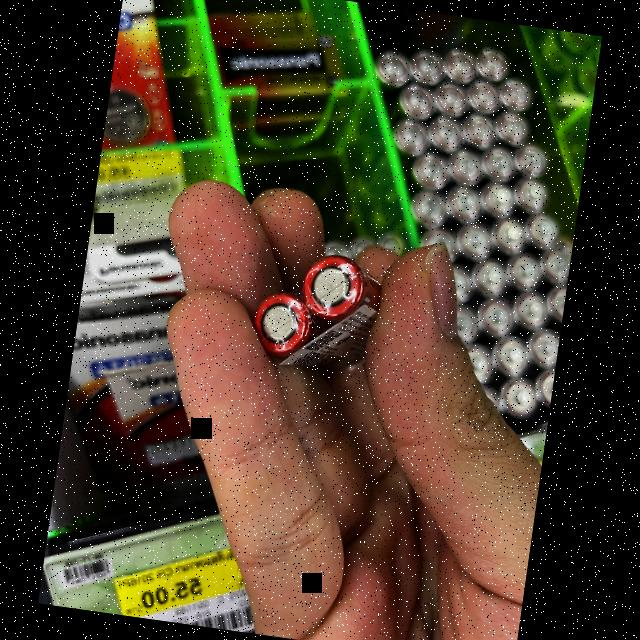battery: (245, 286, 376, 371), (293, 247, 388, 344)
